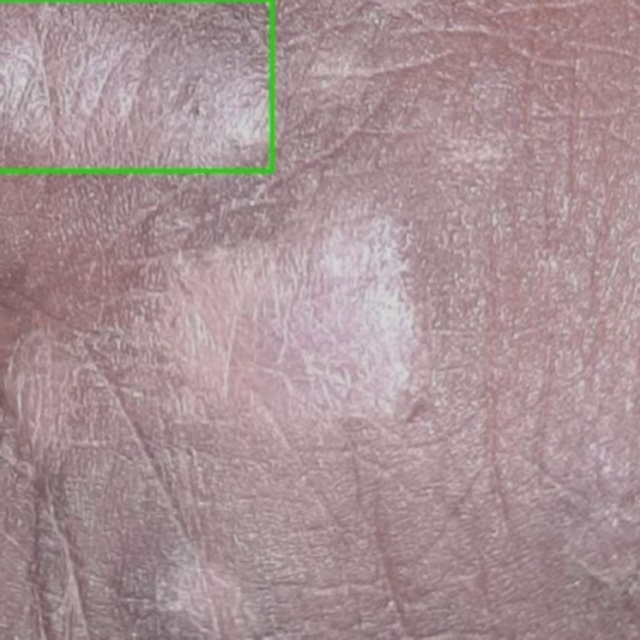Eczema: (0, 0, 272, 171)
